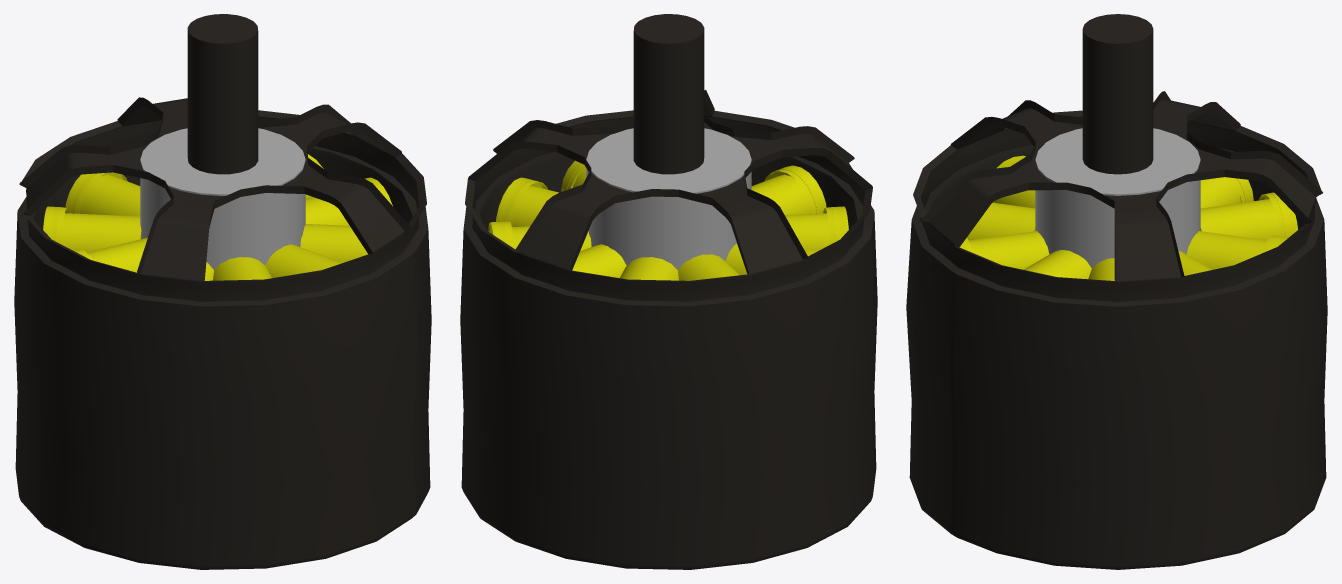
The model's file is motor_type_6.fbx.
3 renders of one model, left to right at view 1: azimuth 30°, elevation 25°; view 2: azimuth 150°, elevation 25°; view 3: azimuth 270°, elevation 25°, orthographic.
Visible parts, largest first — view 1: pCylinder22, pCylinder23, coil_7_229, coil_7_230, coil_7_224, coil_7_225, coil_7_228, coil_7_227, coil; view 2: pCylinder22, pCylinder23, coil_7_227, coil, coil_7_226, coil_7_231, coil_7_229, coil_7_230, coil_7_222, coil_7_224; view 3: pCylinder22, pCylinder23, coil_7_230, coil_7_231, coil_7_225, coil_7_227, coil_7_229, coil_7_224, coil_7_226.
Part boxes in pixels (box(x1,y1,x2,y2)): pCylinder22: box(14, 14, 431, 569); pCylinder23: box(140, 128, 305, 269); coil_7_229: box(43, 206, 141, 252); coil_7_230: box(65, 172, 140, 216); coil_7_224: box(300, 224, 367, 262); coil_7_225: box(265, 244, 348, 277); coil_7_228: box(72, 238, 147, 272); coil_7_227: box(213, 257, 271, 280); coil: box(305, 177, 392, 225); pCylinder22: box(460, 14, 877, 569); pCylinder23: box(586, 128, 751, 269); coil_7_227: box(751, 165, 826, 214); coil: box(496, 177, 558, 226); coil_7_226: box(785, 206, 848, 251); coil_7_231: box(572, 244, 626, 277); coil_7_229: box(678, 254, 739, 280); coil_7_230: box(620, 257, 678, 280); coil_7_222: box(488, 221, 591, 251); coil_7_224: box(561, 160, 586, 191); pCylinder22: box(906, 14, 1327, 569); pCylinder23: box(1035, 128, 1200, 267); coil_7_230: box(1200, 192, 1297, 240); coil_7_231: box(1186, 231, 1288, 269); coil_7_225: box(959, 231, 1049, 269); coil_7_227: box(966, 202, 1035, 240); coil_7_229: box(1200, 177, 1253, 208); coil_7_224: box(1023, 250, 1091, 279); coil_7_226: box(993, 155, 1035, 208).
Size of the model in its own units: 2.54 by 3.03 by 2.55.
